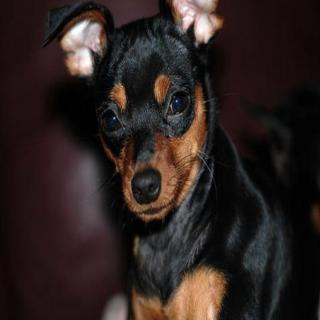dog: (45, 1, 244, 233)
nose: (123, 168, 173, 206)
